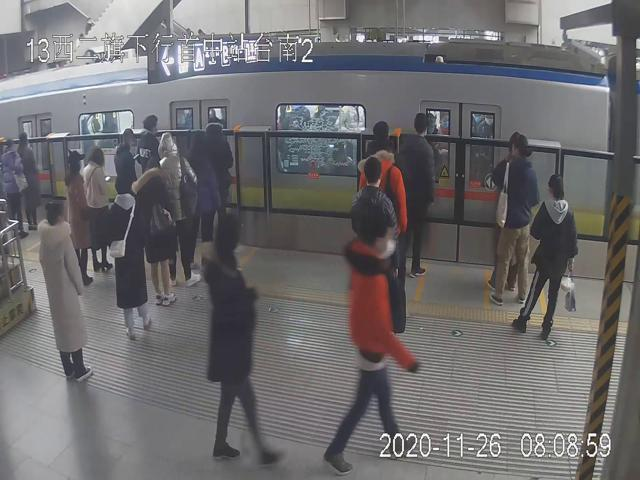person: (204, 213, 287, 466), (36, 198, 95, 381), (514, 172, 578, 340), (489, 135, 540, 303), (157, 131, 202, 287), (109, 178, 152, 341), (131, 155, 176, 306), (404, 114, 437, 281), (64, 147, 95, 286), (85, 145, 115, 270), (1, 139, 28, 238)
